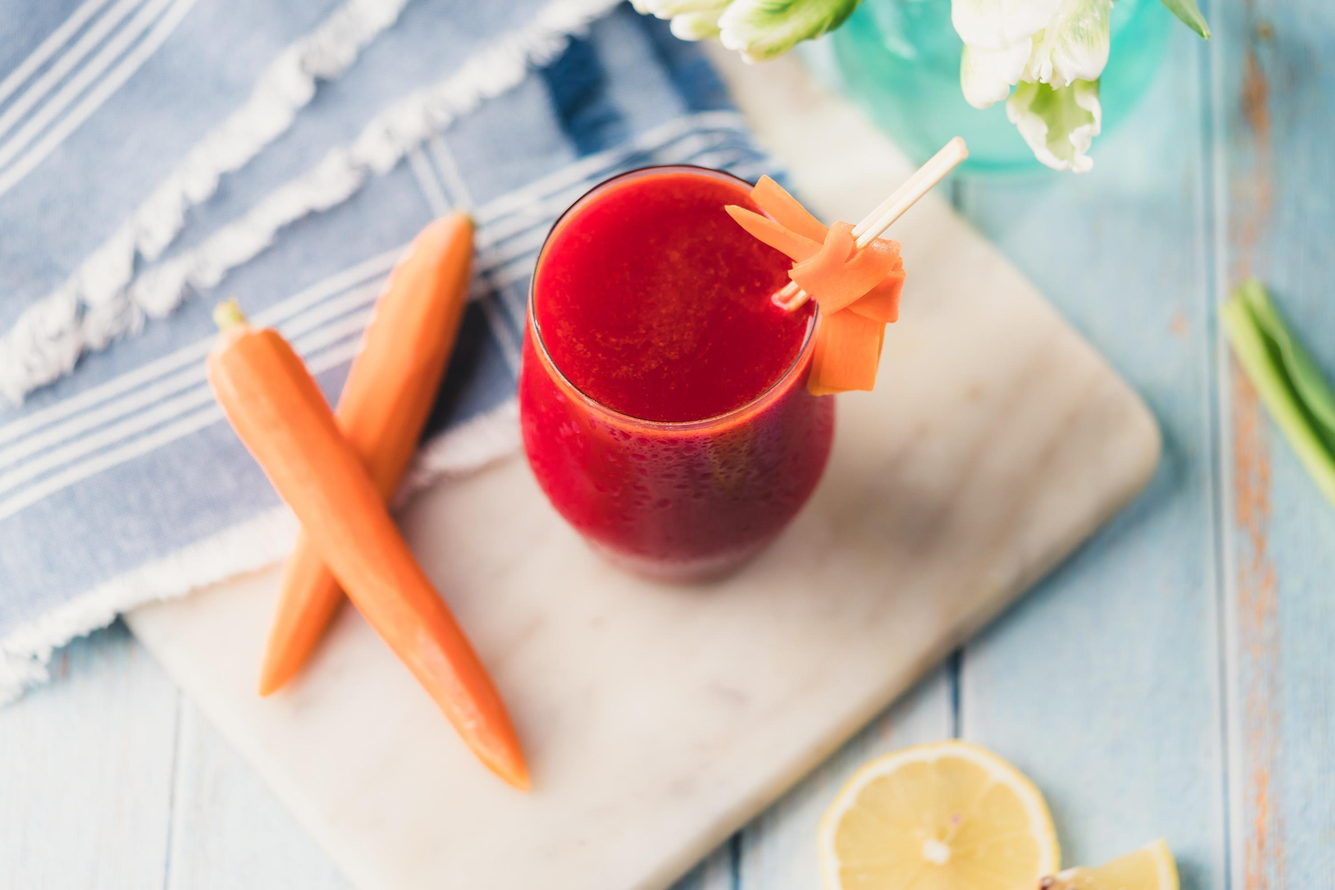glass-normal: (508, 154, 847, 591)
